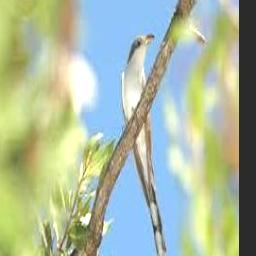Cuckoo: (121, 34, 167, 256)
